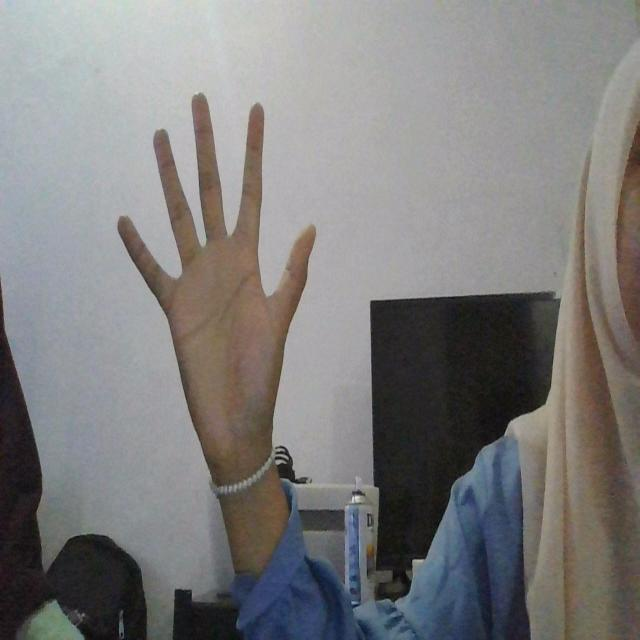hand: (120, 84, 318, 469)
